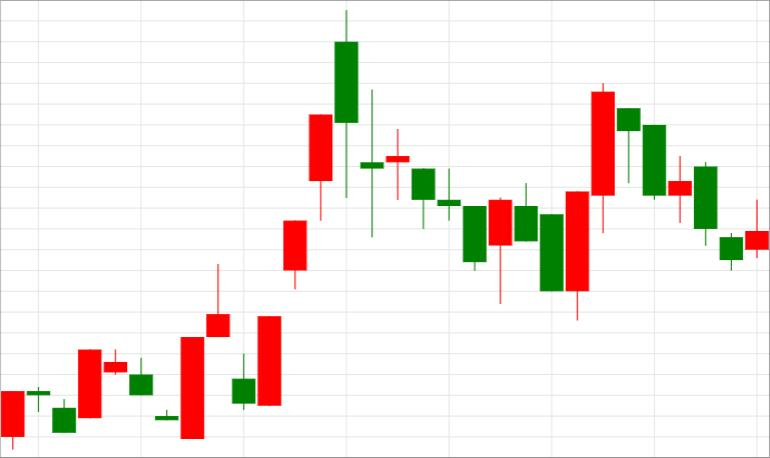bullish_engulfing_rise: (334, 9, 589, 320)
